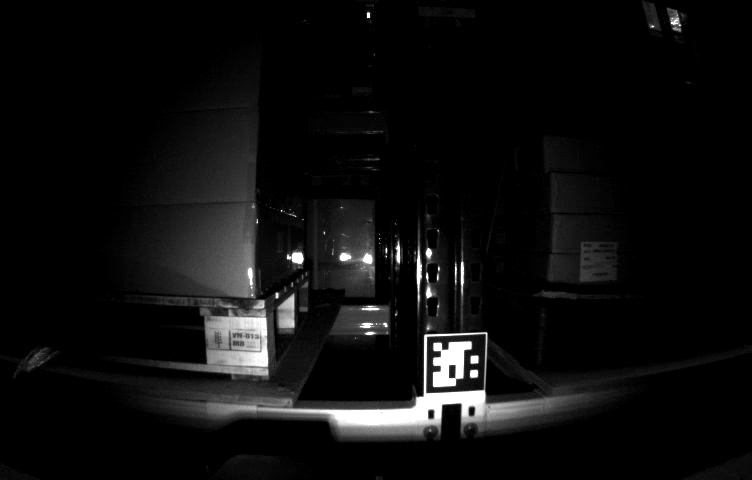True Barcode: (579, 240, 623, 282)
